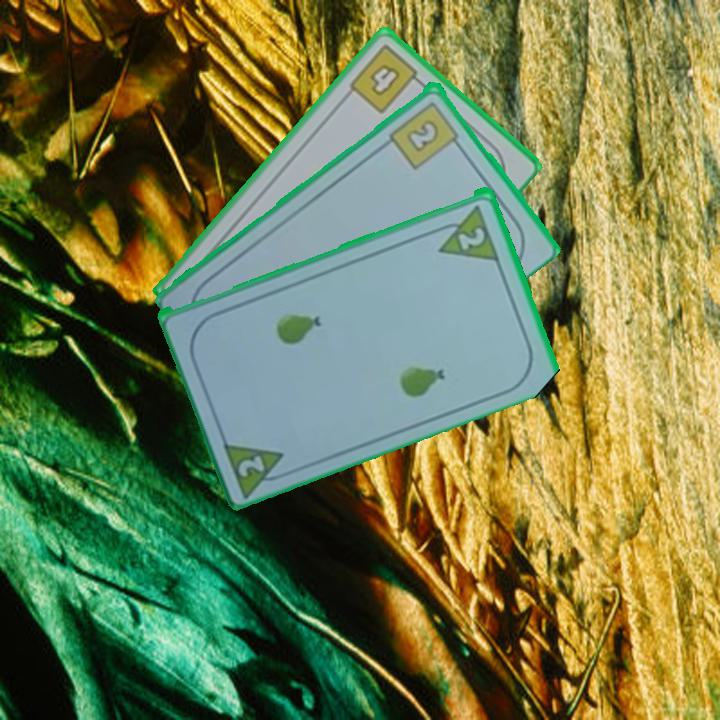2b: (386, 97, 465, 172)
2p: (219, 435, 295, 498), (454, 222, 488, 253)
4b: (345, 40, 428, 116)
